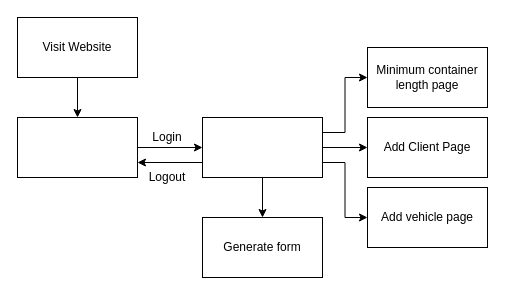
The diagram is 505 pixels wide and 295 high, and some of its shapes have lost their labels. The box of each missing label's shape, as (x1, y1, x2, y2) in pixels:
Login Page: (16, 116, 138, 178)
Main Page: (202, 116, 322, 178)
